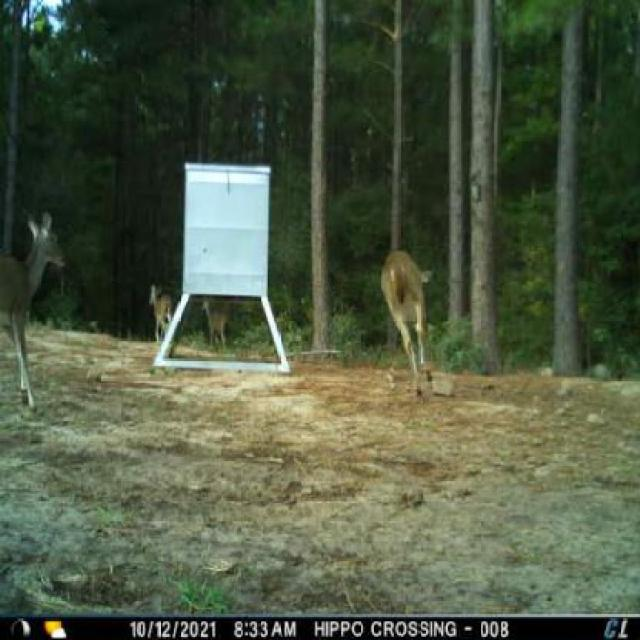Deer: (0, 211, 71, 412), (374, 240, 434, 394), (141, 265, 176, 346), (194, 295, 240, 354)
